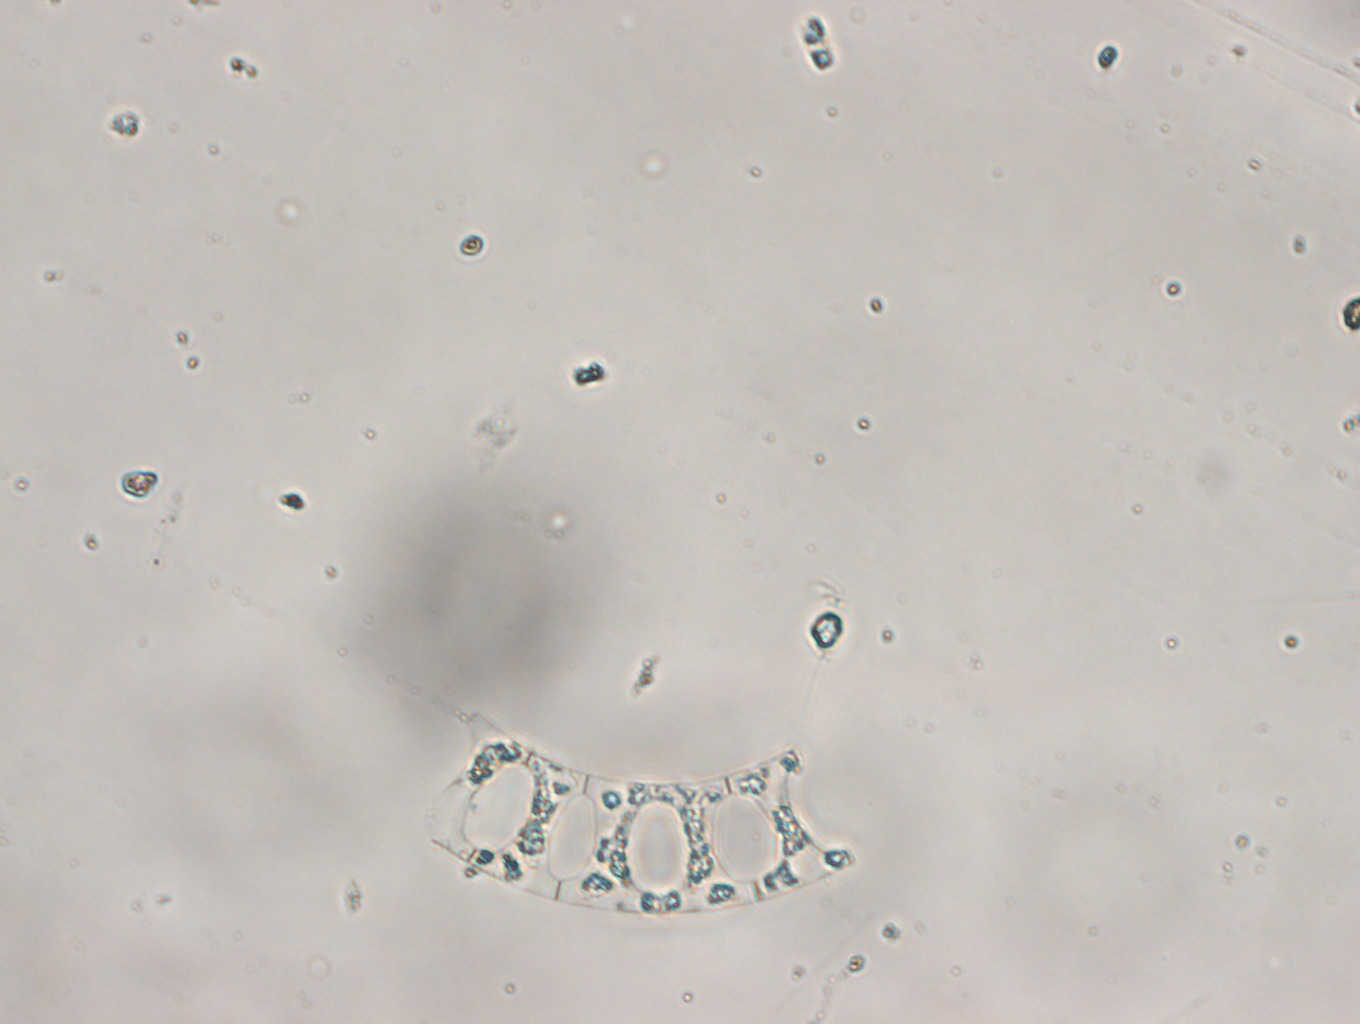eucampia: (413, 740, 865, 926)
